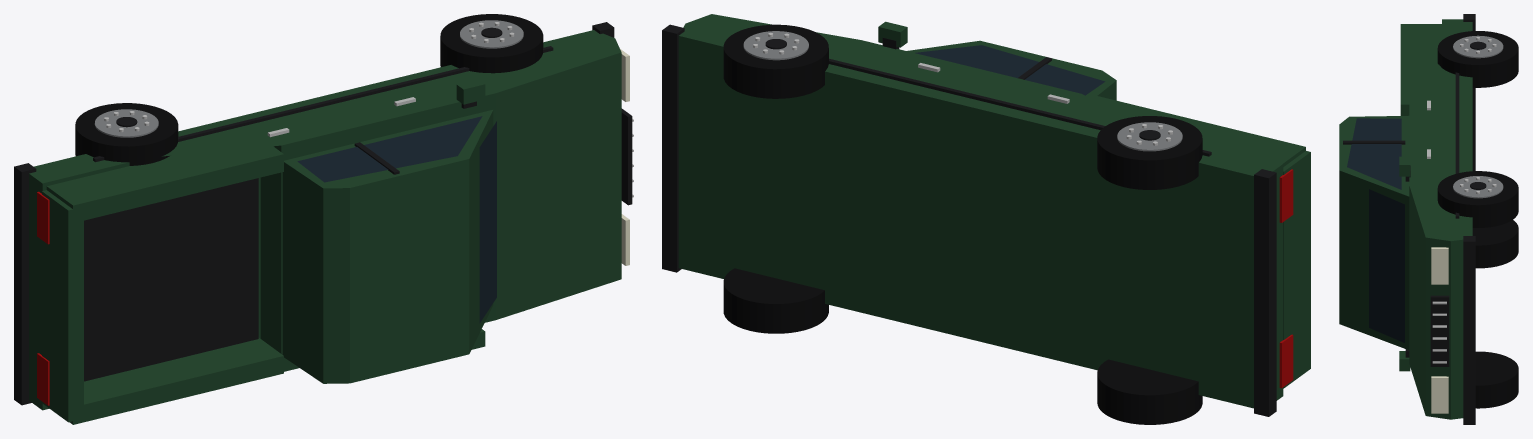
Rendered from car.obj.
3 views of the same model, side by side, from view 1: azimuth 30°, elevation 25°; view 2: azimuth 150°, elevation 25°; view 3: azimuth 270°, elevation 25° (orthographic). The views are drawn at different scales.
Parts seen in each view (by area): view 1: Body, Cabin, Bed_floor, Bed_side, Tailgate, Tire, Side_window, Rear_bumper, Windshield, Wheel_hub, Body_trim, Rear_lamp (+3 smaller); view 2: Body, Tire, Rear_bumper, Tailgate, Front_bumper, Side_window, Bed_side, Wheel_hub, Body_trim, Cabin, Rear_lamp; view 3: Body, Tire, Cabin, Windshield, Side_window, Bed_side, Front_bumper, Wheel_hub, Headlamp, Front_grille, Body_trim, Rear_bumper (+5 smaller).
Part boxes in pixels (x1,y1,x2,y2): Body: (29, 30, 621, 410); Cabin: (282, 110, 493, 383); Bed_floor: (84, 178, 258, 381); Bed_side: (46, 146, 283, 424); Tailgate: (42, 190, 83, 422); Tire: (75, 14, 543, 165); Side_window: (297, 116, 482, 182); Rear_bumper: (14, 163, 36, 405); Windshield: (479, 121, 496, 323); Wheel_hub: (94, 20, 523, 137); Body_trim: (93, 46, 553, 162); Rear_lamp: (37, 191, 49, 405); Body: (678, 14, 1283, 408); Tire: (723, 24, 1202, 424); Rear_bumper: (1254, 169, 1276, 416); Tailgate: (1283, 151, 1310, 388); Front_bumper: (662, 24, 684, 272); Side_window: (915, 45, 1105, 95); Bed_side: (1087, 94, 1305, 166); Wheel_hub: (743, 31, 1182, 151); Body_trim: (829, 58, 1211, 156); Cabin: (907, 40, 1116, 100); Rear_lamp: (1279, 169, 1293, 388); Body: (1409, 19, 1472, 419); Tire: (1437, 31, 1518, 408); Cabin: (1339, 115, 1409, 349); Windshield: (1369, 189, 1404, 342); Side_window: (1347, 118, 1401, 189); Bed_side: (1400, 24, 1441, 115); Front_bumper: (1463, 236, 1475, 424); Wheel_hub: (1453, 35, 1503, 198); Headlamp: (1431, 247, 1448, 413); Front_grille: (1430, 295, 1449, 366); Body_trim: (1455, 72, 1459, 218); Rear_bumper: (1463, 14, 1475, 171).
Size of the model in its own units: 4.92 by 2.12 by 1.64.
